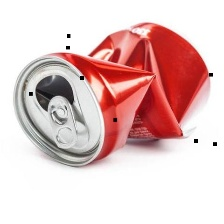can: (8, 18, 214, 177)
